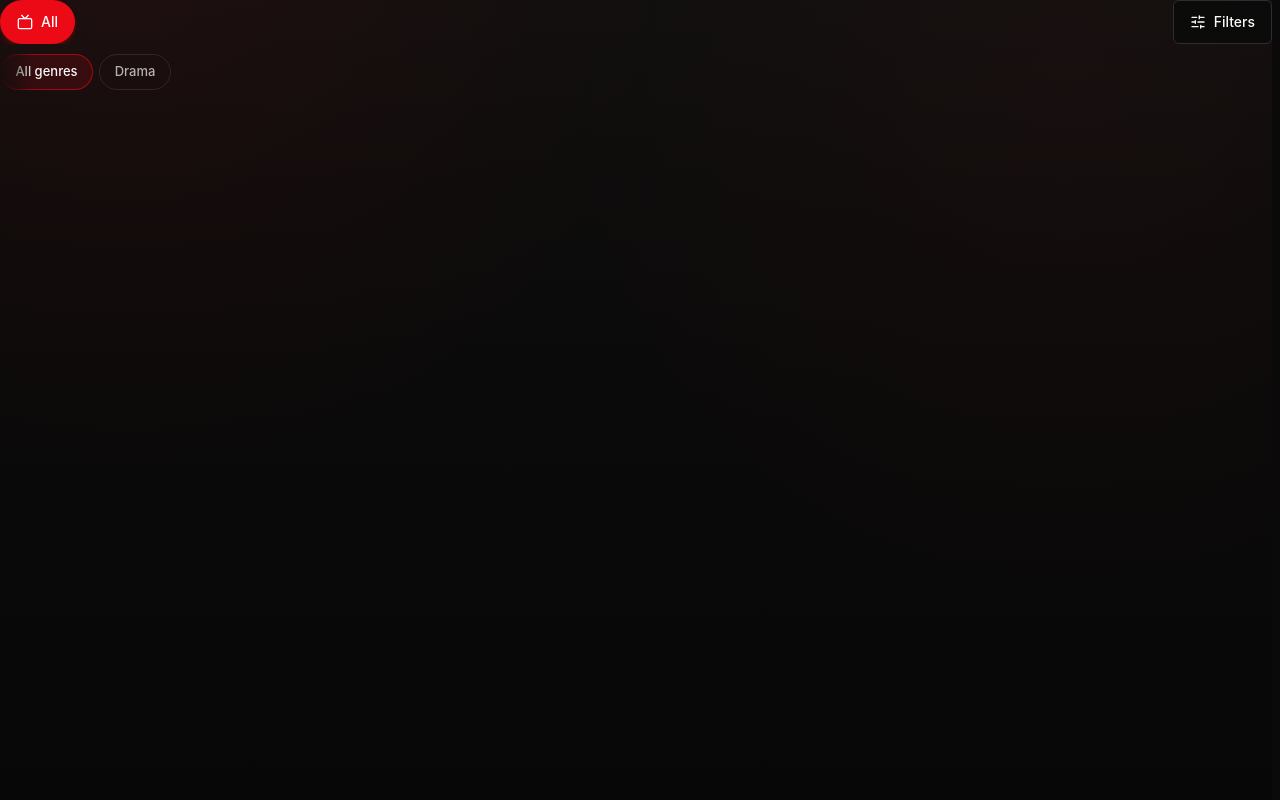
Scenario: BrowseFilters › opens as a bottom sheet on small screens
This screenshot has width=1280, height=800.
Click the button with aria-label "Open filters" at (1222, 22), box [1173, 0, 1272, 44]
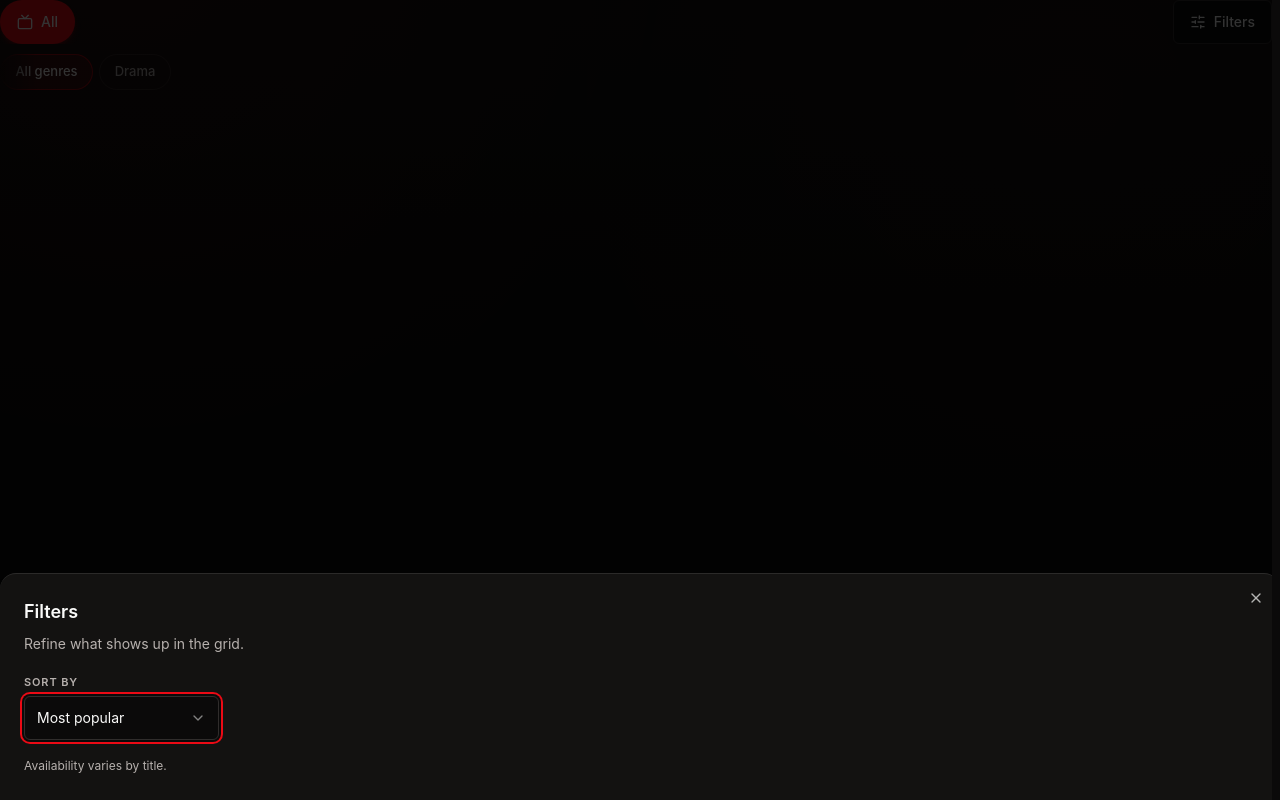
Check: the dialog "Filters" is shown, box [0, 573, 1279, 799]
